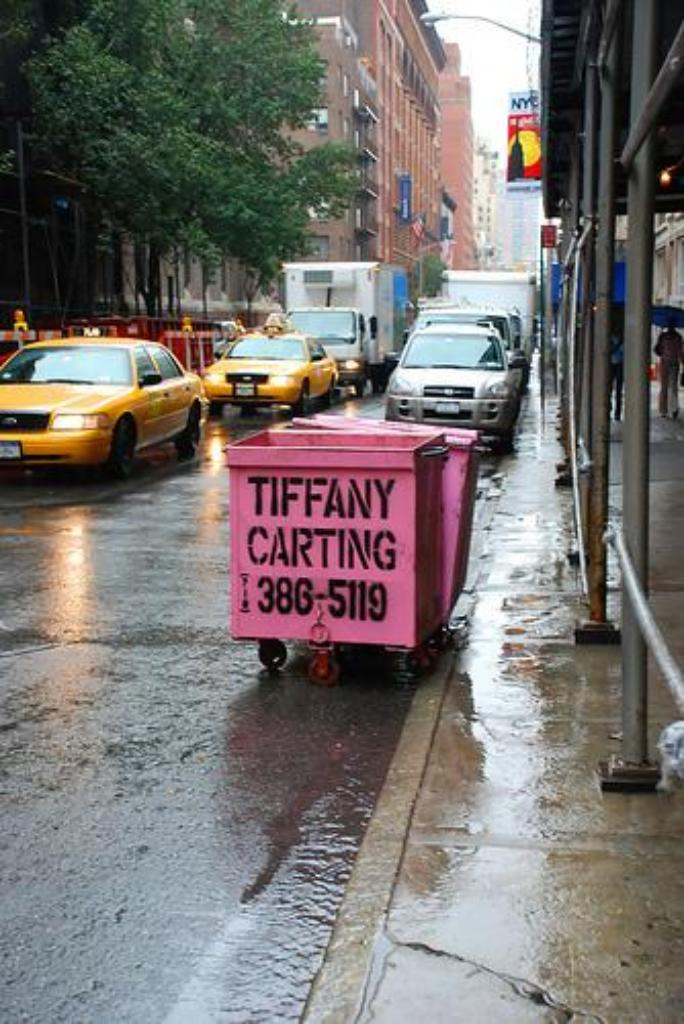dustbin: (222, 405, 497, 699)
